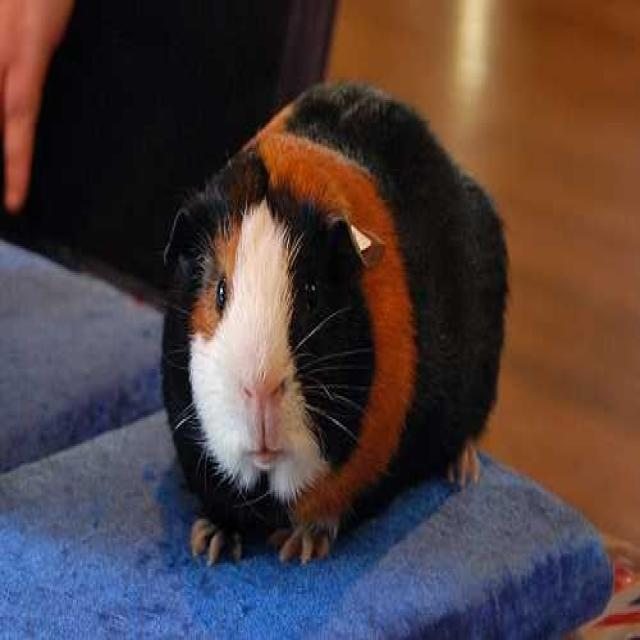guinea pig: (167, 89, 509, 563)
